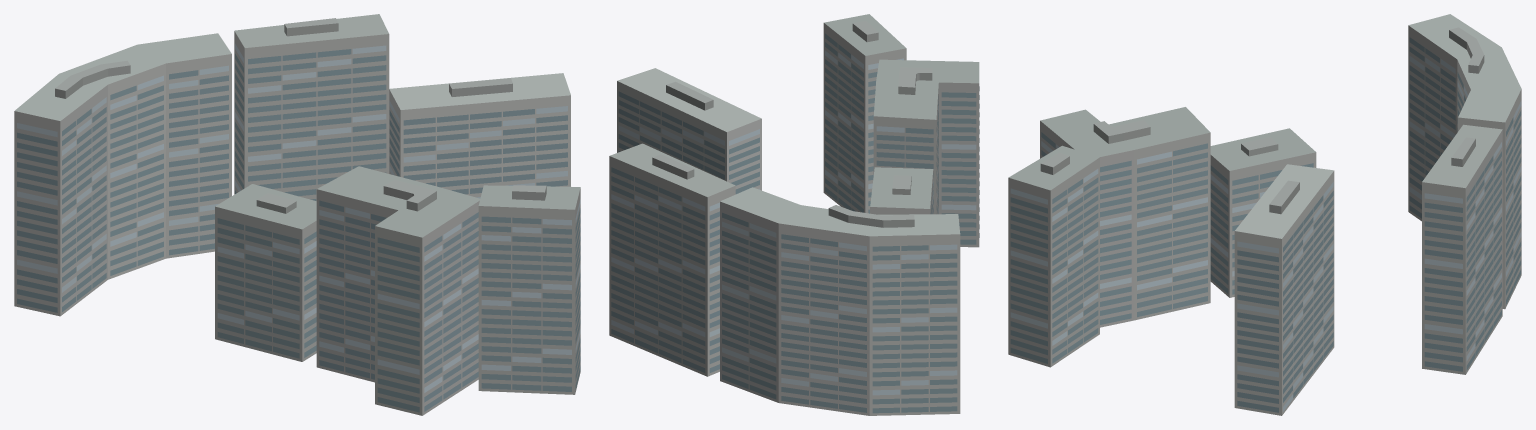
File: apt-a13671213.glb
3 views of the same model, side by side, from view 1: azimuth 30°, elevation 25°; view 2: azimuth 150°, elevation 25°; view 3: azimuth 270°, elevation 25° (orthographic). The views are drawn at different scales.
Visible parts, largest first — view 1: apt-a13671213; view 2: apt-a13671213; view 3: apt-a13671213.
Boxes of the visible parts, x1,y1,x2,y2 form: apt-a13671213: (14, 14, 580, 415); apt-a13671213: (609, 14, 979, 415); apt-a13671213: (1008, 14, 1521, 415).
Bounding box in the file's own units: 142 × 60 × 143.
